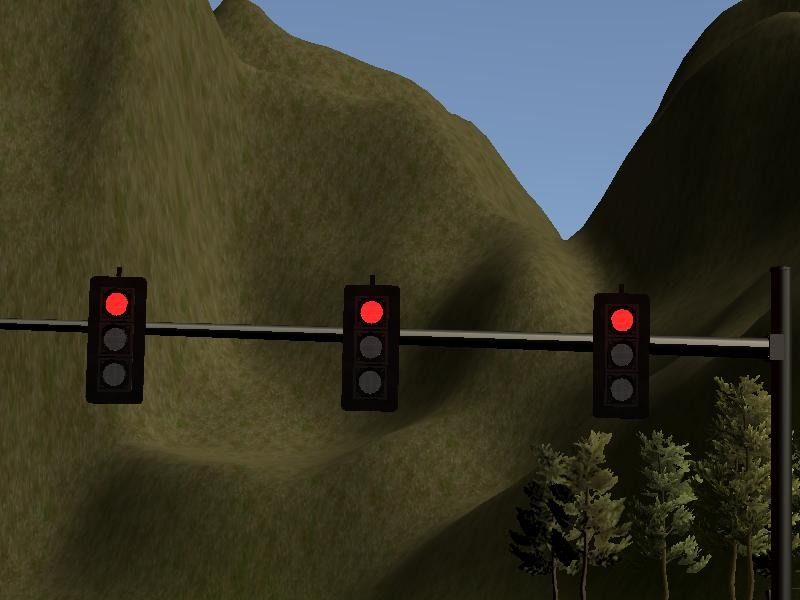red: (87, 277, 148, 403), (592, 292, 653, 418), (338, 285, 399, 411)
